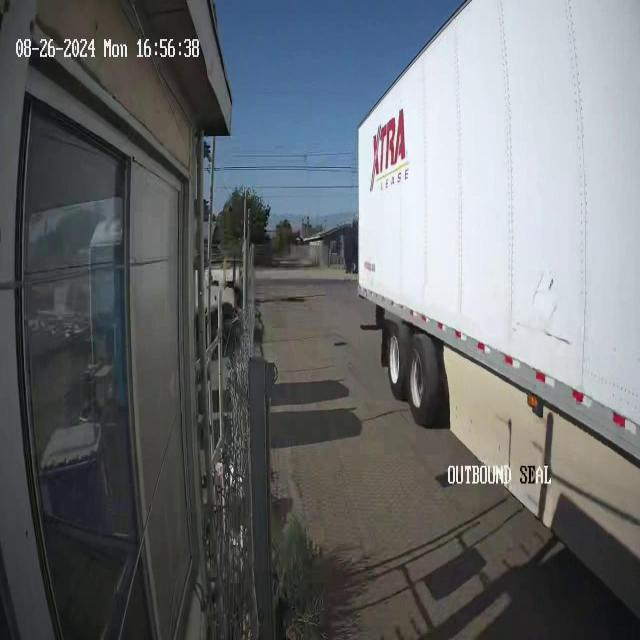TRUCK_IN: (350, 0, 640, 640)
